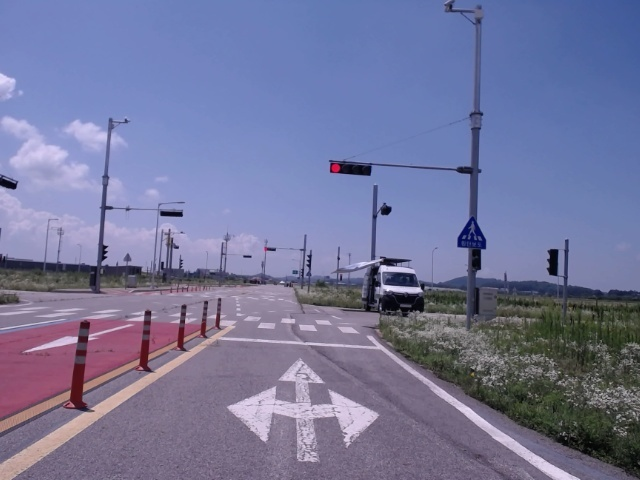red_4: (331, 164, 371, 176)
